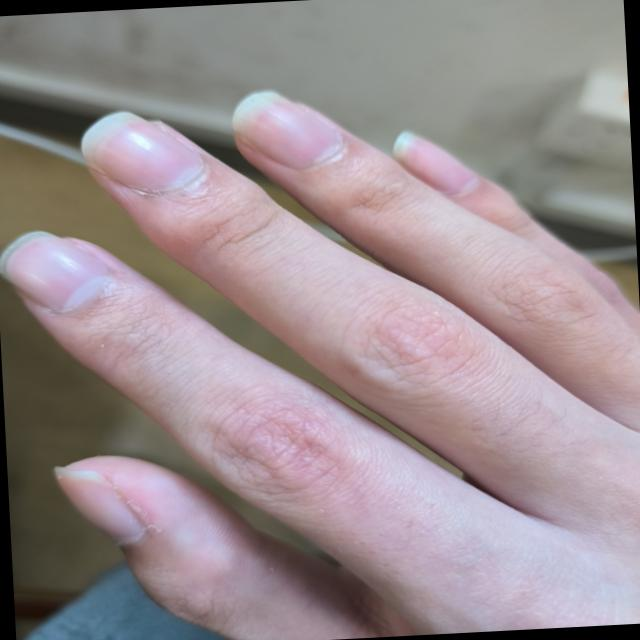Nail: (80, 113, 203, 191), (233, 92, 344, 169), (0, 232, 108, 311), (56, 467, 144, 542), (394, 130, 480, 195)
